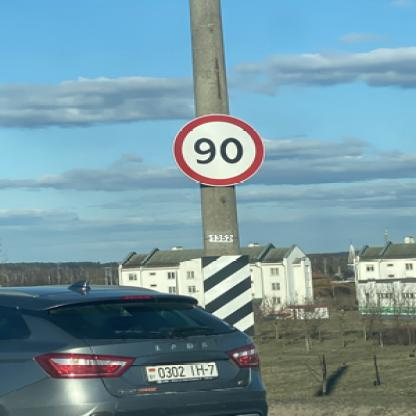Speed Limit 90: (171, 116, 267, 186)
